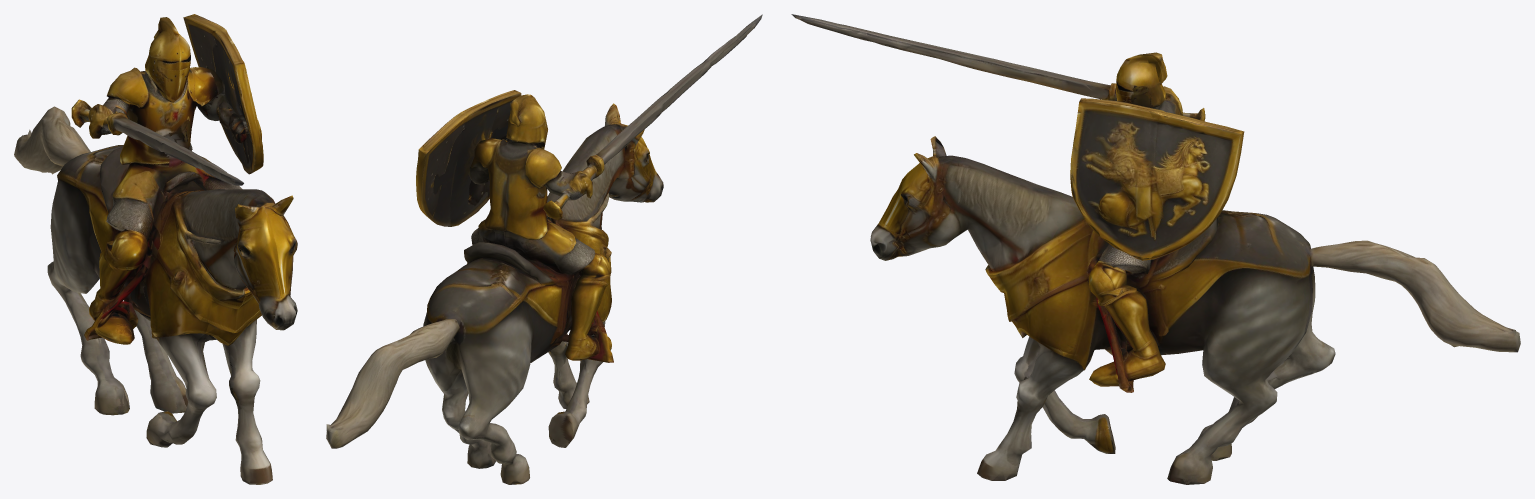
Rendered from monster_36.glb.
3 renders of one model, left to right at view 1: azimuth 30°, elevation 25°; view 2: azimuth 150°, elevation 25°; view 3: azimuth 270°, elevation 25°, orthographic. The views are drawn at different scales.
Visible parts, largest first — view 1: Jouster_0709183340_texture; view 2: Jouster_0709183340_texture; view 3: Jouster_0709183340_texture.
Boxes of the visible parts, x1,y1,x2,y2 form: Jouster_0709183340_texture: [14, 14, 297, 484]; Jouster_0709183340_texture: [326, 14, 762, 484]; Jouster_0709183340_texture: [791, 14, 1520, 484].
Size of the model in its own units: 0.6118 by 1.24 by 1.98.
1 material, 1 textured.
